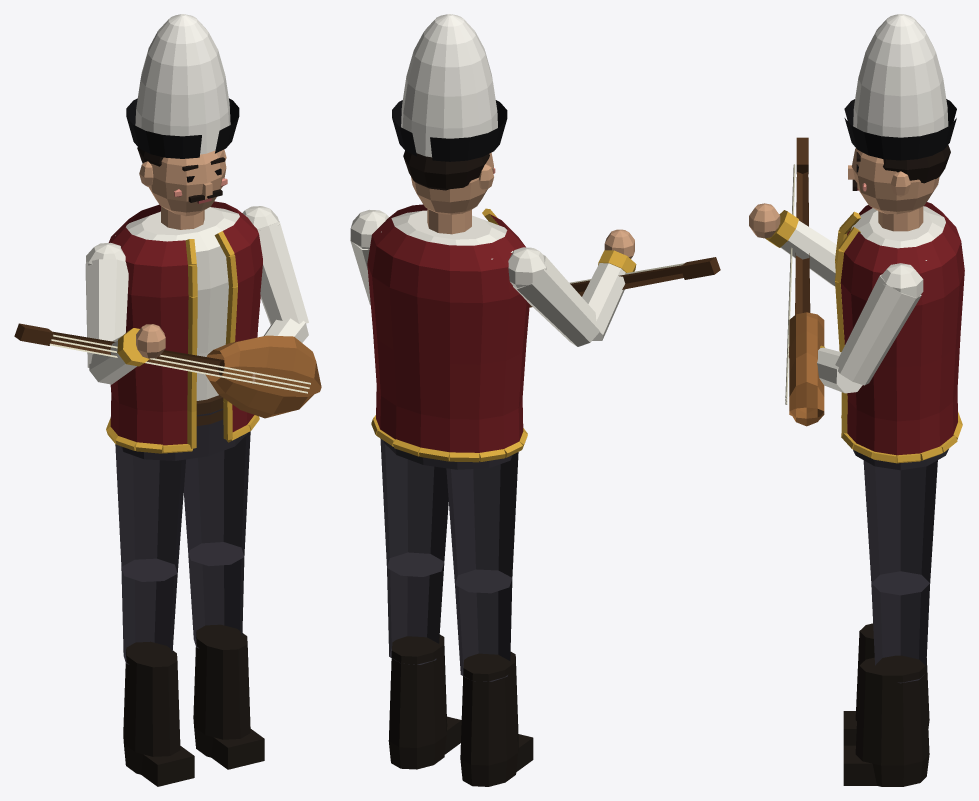
File: NPC_Komuzchu.obj
The picture shows the model from 3 angles, left to right: view 1: azimuth 30°, elevation 25°; view 2: azimuth 150°, elevation 25°; view 3: azimuth 270°, elevation 25°; orthographic projection.
Visible parts, largest first — view 1: NPC_Komuzchu; view 2: NPC_Komuzchu; view 3: NPC_Komuzchu.
Part boxes in pixels (box(x1,y1,x2,y2)): NPC_Komuzchu: box(14, 14, 321, 786); NPC_Komuzchu: box(350, 14, 720, 786); NPC_Komuzchu: box(749, 14, 964, 786).
Size of the model in its own units: 0.898 by 2.01 by 0.5279.
